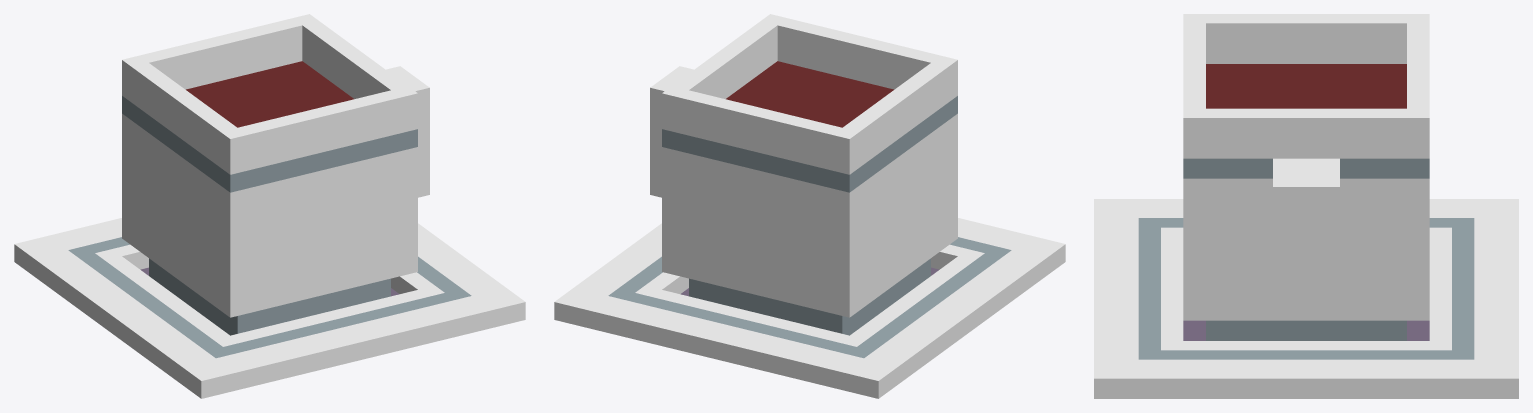
Rendered from VoxelCup.glb.
3 views of the same model, side by side, from view 1: azimuth 30°, elevation 25°; view 2: azimuth 150°, elevation 25°; view 3: azimuth 270°, elevation 25° (orthographic). The views are drawn at different scales.
Visible parts, largest first — view 1: Plate, Cup; view 2: Plate, Cup; view 3: Plate, Cup.
Part boxes in pixels (x1,y1,x2,y2): Plate: (122,14,429,335); Cup: (14,218,525,398); Plate: (650,14,957,335); Cup: (554,218,1065,398); Plate: (1183,14,1429,340); Cup: (1094,199,1518,398).
Bounding box in the file's own units: 0.19 × 0.13 × 0.19.
2 materials, 2 textured.
